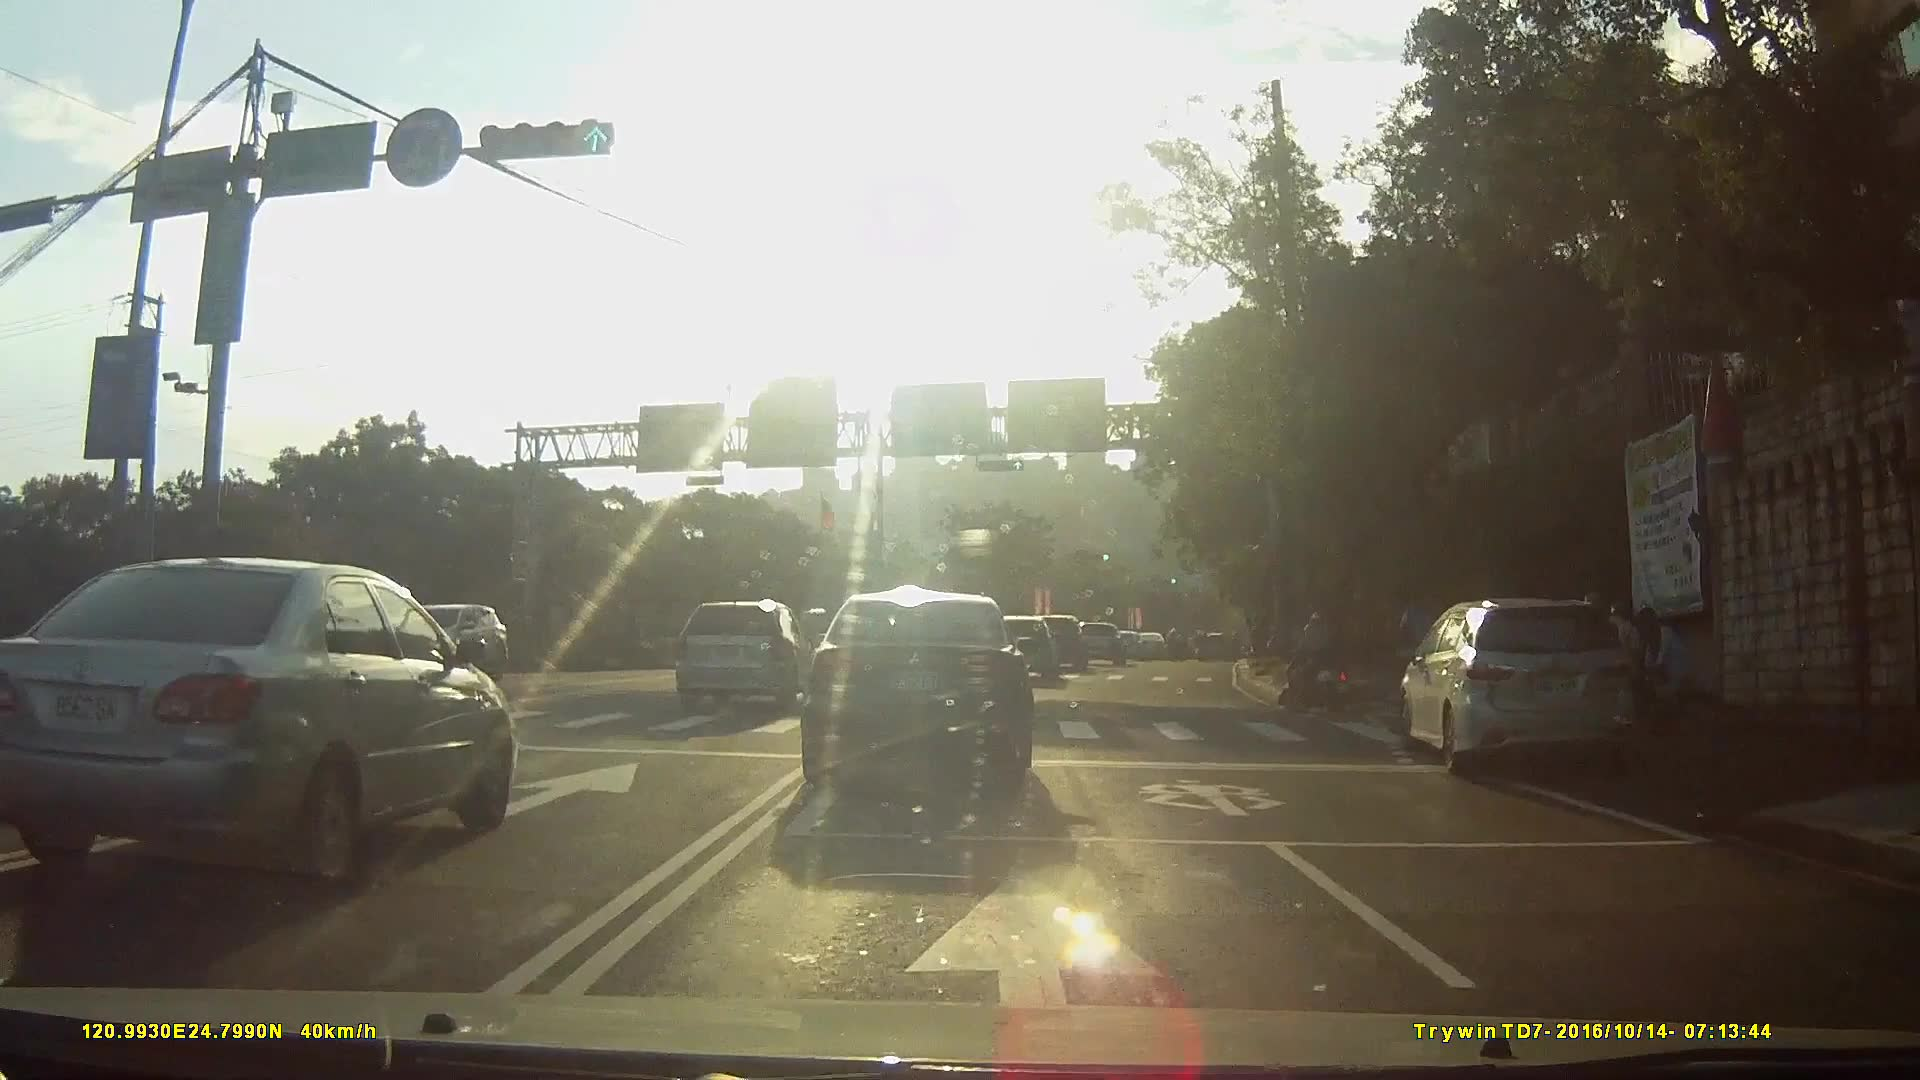pedestrian: (1635, 603, 1694, 711)
rider: (1277, 610, 1361, 714)
vehicle: (0, 560, 530, 894), (792, 596, 1060, 816), (1389, 599, 1663, 797), (141, 581, 351, 786), (685, 601, 833, 716), (376, 598, 523, 686), (1006, 619, 1080, 689), (1040, 616, 1102, 674), (1083, 621, 1136, 667), (1117, 630, 1156, 662), (1143, 634, 1176, 662)
